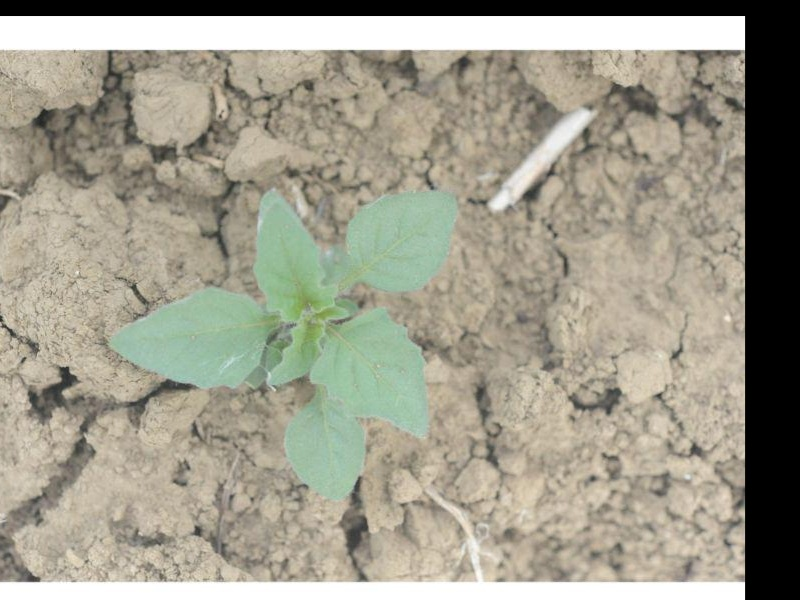nightshade: (111, 185, 456, 504)
